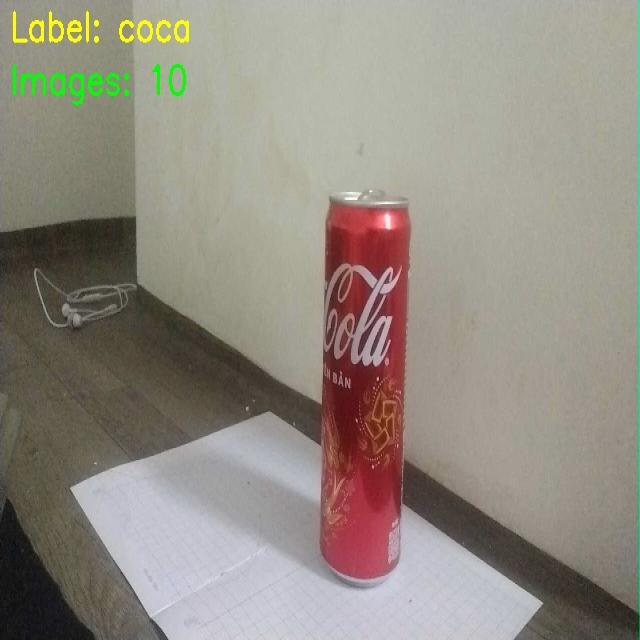Coca: (297, 171, 434, 617)
